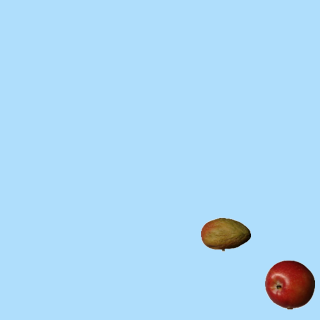Apple Braeburn: (264, 259, 314, 309)
Papaya: (200, 209, 250, 259)
